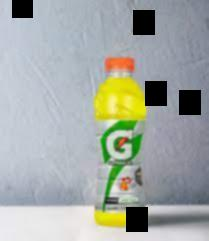gatorade_lemon: (94, 56, 147, 228)
